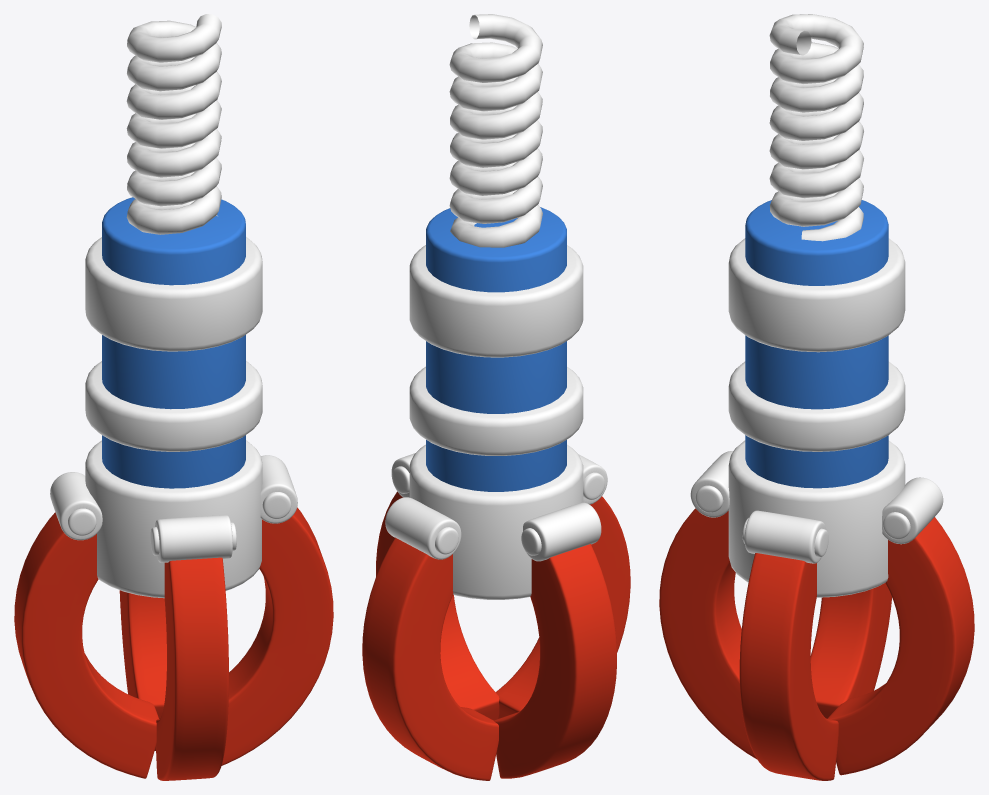
File: robotic-claw-3d-animated-icon-1351936407313.glb
3 views of the same model, side by side, from view 1: azimuth 30°, elevation 25°; view 2: azimuth 150°, elevation 25°; view 3: azimuth 270°, elevation 25° (orthographic).
Visible parts, largest first — view 1: Cylinder.046, Cylinder.043, Spiral, Circle, Circle.006, Circle.003, Circle.009, Circle.005, Circle.002, Circle.008; view 2: Cylinder.046, Cylinder.043, Spiral, Circle.009, Circle, Circle.003, Circle.006, Circle.002, Circle.011, Circle.005, Circle.008; view 3: Cylinder.046, Cylinder.043, Spiral, Circle.009, Circle.006, Circle.003, Circle, Circle.008, Circle.011, Circle.005.
Part boxes in pixels (x1,y1,x2,y2): Cylinder.046: (85,237,262,598); Cylinder.043: (102,197,245,488); Spiral: (126,14,221,234); Circle: (14,512,158,778); Circle.006: (221,507,333,765); Circle.003: (156,557,228,780); Circle.009: (119,590,166,750); Circle.005: (150,515,236,562); Circle.002: (50,472,102,540); Circle.008: (260,455,297,523); Cylinder.046: (409,245,583,599); Cylinder.043: (426,207,566,491); Spiral: (449,14,542,247); Circle.009: (362,537,498,780); Circle: (494,544,616,778); Circle.003: (495,496,630,718); Circle.006: (376,491,499,720); Circle.002: (521,502,601,561); Circle.011: (385,497,461,559); Circle.005: (578,454,607,504); Circle.008: (391,453,415,497); Cylinder.046: (728,238,905,597); Cylinder.043: (745,200,888,488); Spiral: (769,14,863,241); Circle.009: (827,517,974,775); Circle.006: (739,553,838,780); Circle.003: (659,508,756,759); Circle: (810,583,891,718); Circle.008: (742,510,828,563); Circle.011: (882,477,943,544); Circle.005: (690,451,733,517).
Size of the model in its own units: 4 by 10.41 by 4.
